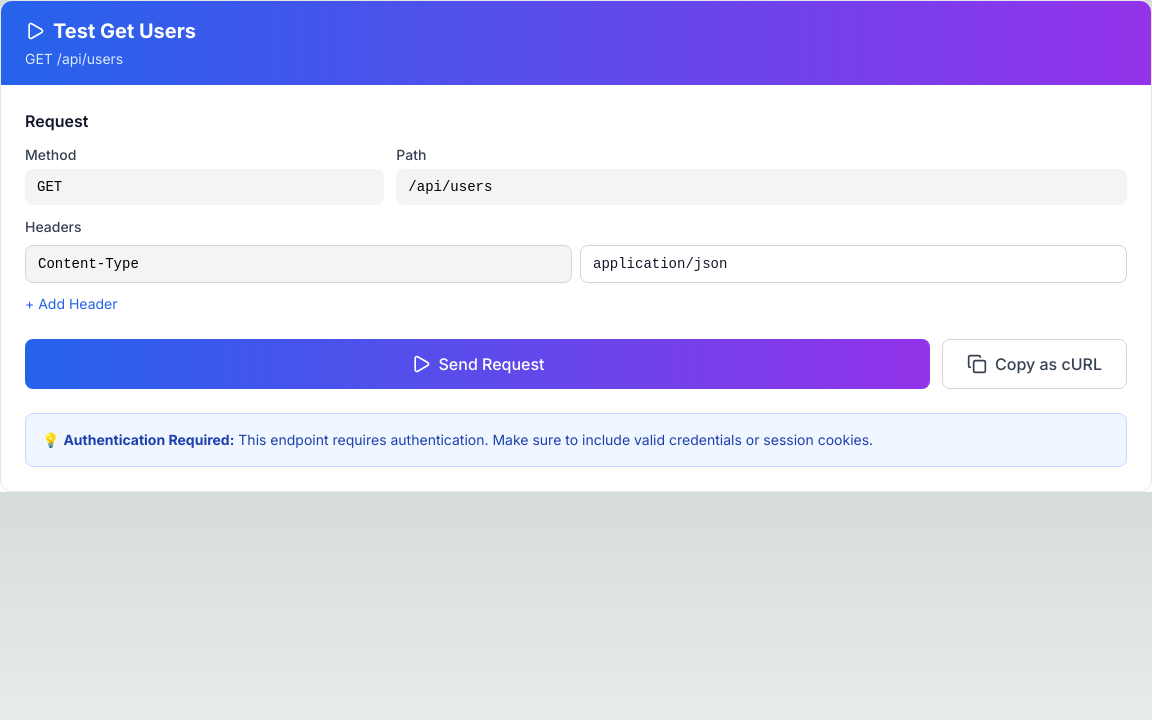
Test: APITestingPanel › Request Testing › should display response after successful request
Click the button "Send Request".
click(478, 364)  # box [25,339,930,389]
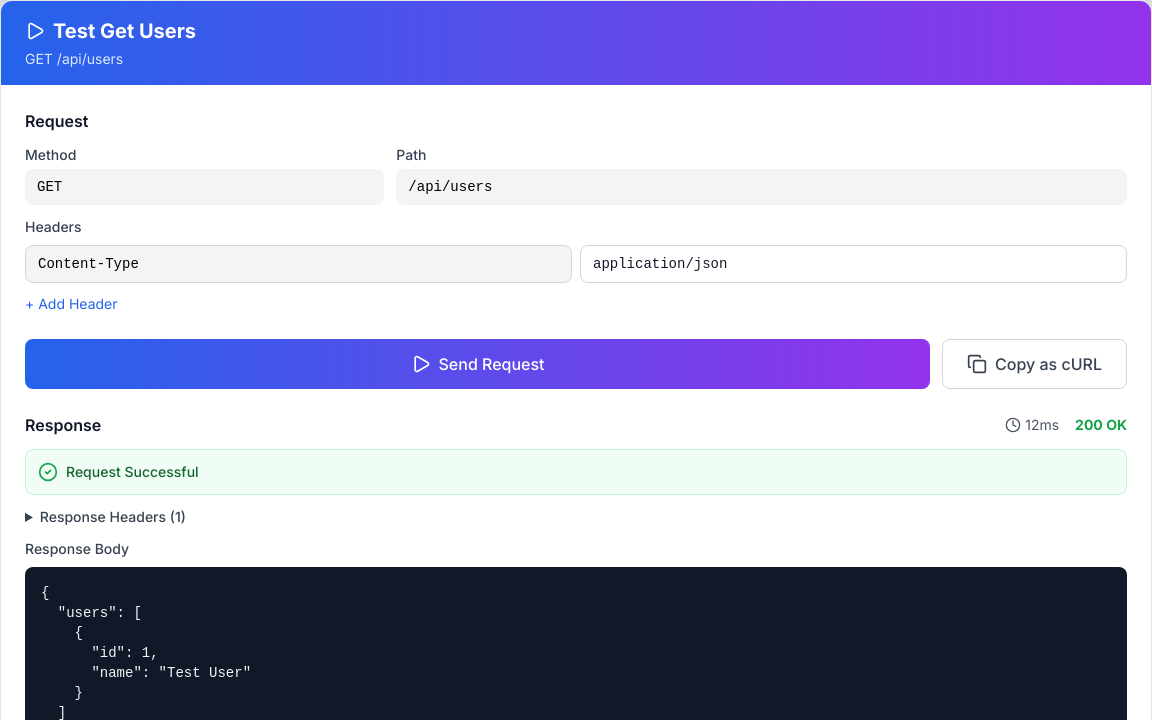
Expected: the heading "Response" is shown, [25,413,101,437]
Expected: the text "200 OK" is shown, [1075,415,1127,435]
